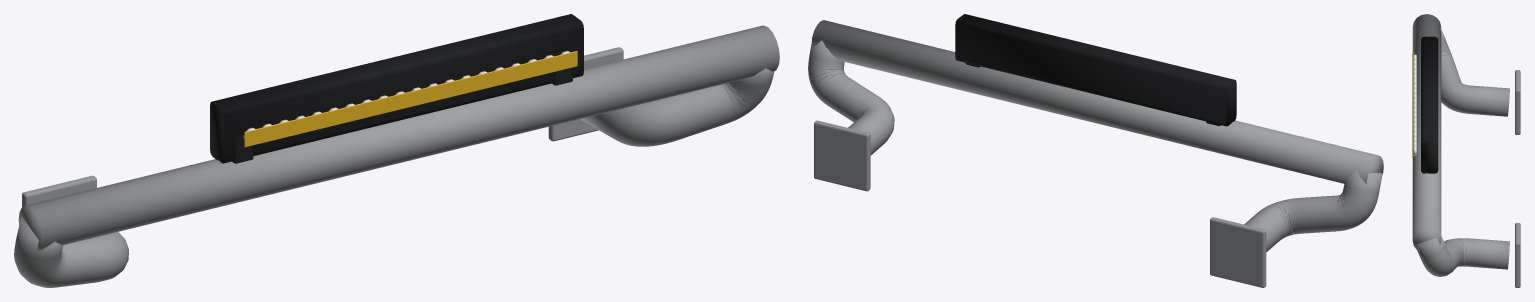
The model's file is grilleLight_rally.glb.
3 views of the same model, side by side, from view 1: azimuth 30°, elevation 25°; view 2: azimuth 150°, elevation 25°; view 3: azimuth 270°, elevation 25° (orthographic). The views are drawn at different scales.
Visible parts, largest first — view 1: hoop.002, housing.010, leg1.001, lens.010, leg-1.001, plate1, plate-1; view 2: hoop.002, housing.010, leg-1.001, leg1.001, plate-1, plate1; view 3: hoop.002, leg1.001, leg-1.001, housing.010, plate1, plate-1, lens.010.
Part boxes in pixels (<box>): hoop.002: <box>18,25,779,250</box>; housing.010: <box>210,14,583,163</box>; leg1.001: <box>580,67,774,146</box>; lens.010: <box>244,51,577,147</box>; leg-1.001: <box>14,217,128,287</box>; plate1: <box>548,47,623,141</box>; plate-1: <box>22,175,96,206</box>; hoop.002: <box>811,20,1383,184</box>; housing.010: <box>955,14,1236,126</box>; leg-1.001: <box>1244,171,1382,252</box>; leg1.001: <box>808,40,894,155</box>; plate-1: <box>1210,217,1266,287</box>; plate1: <box>814,120,870,191</box>; hoop.002: <box>1412,14,1441,251</box>; leg1.001: <box>1417,233,1509,276</box>; leg-1.001: <box>1440,27,1509,116</box>; housing.010: <box>1421,36,1438,173</box>; plate1: <box>1515,223,1520,287</box>; plate-1: <box>1515,70,1520,134</box>; lens.010: <box>1412,52,1413,157</box>.
Bounding box in the file's own units: 1.14 × 0.275 × 0.239.
